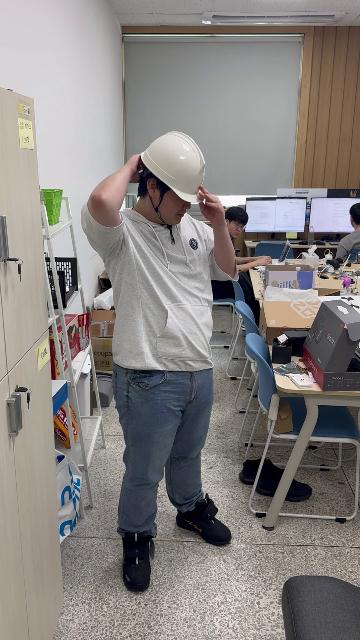helmet_worn: (141, 131, 206, 201)
shoe_not_worn: (241, 457, 311, 500)
shoe_worn: (175, 494, 231, 545), (121, 531, 155, 592)
vest_not_worn: (99, 208, 214, 376)
